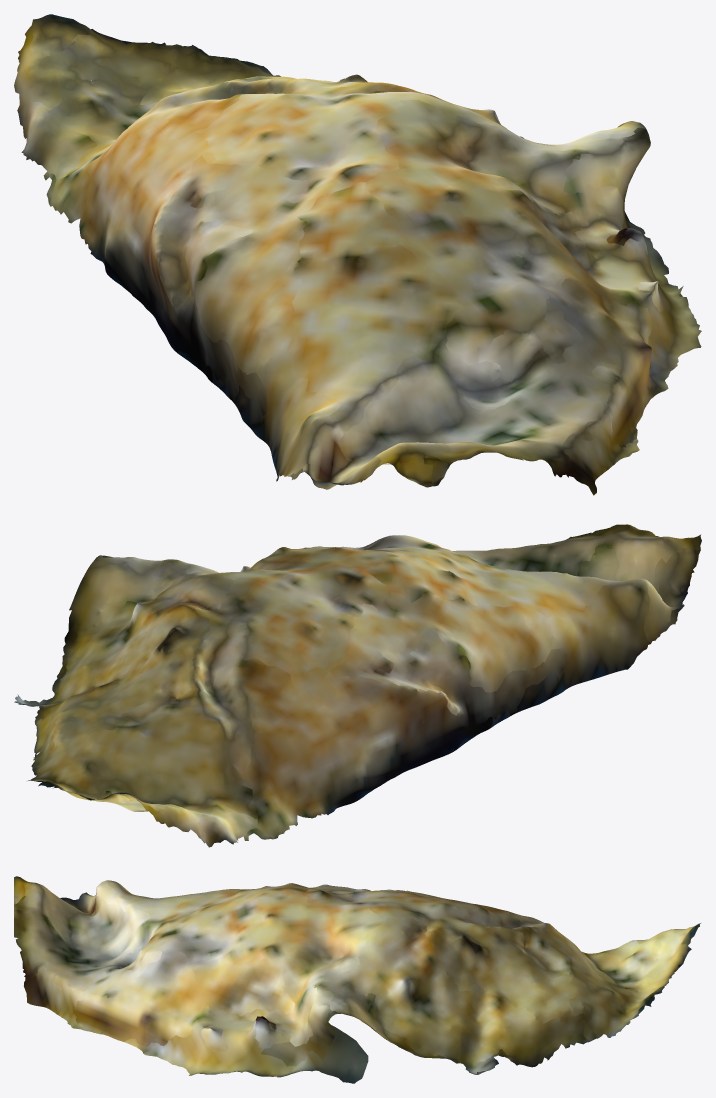
Rendered from Omelette.obj.
3 renders of one model, top to bottom at view 1: azimuth 30°, elevation 25°; view 2: azimuth 150°, elevation 25°; view 3: azimuth 270°, elevation 25°, orthographic. The views are drawn at different scales.
Parts seen in each view (by area): view 1: obj1; view 2: obj1; view 3: obj1.
Boxes of the visible parts, x1,y1,x2,y2 form: obj1: (14, 14, 701, 495); obj1: (14, 524, 701, 847); obj1: (14, 876, 700, 1083).
Size of the model in its own units: 4.31 by 1.33 by 7.39.
Materials: 1 (1 with a texture image).
